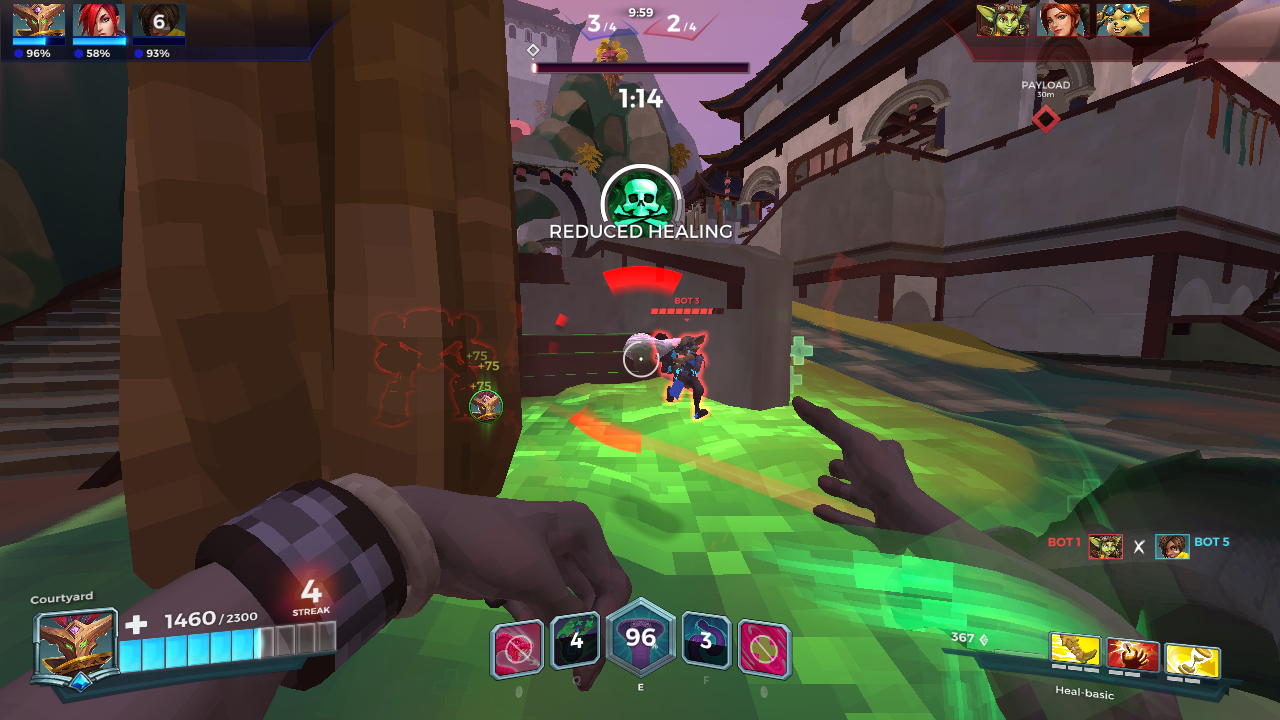model: (361, 295, 474, 429), (661, 326, 707, 420)
